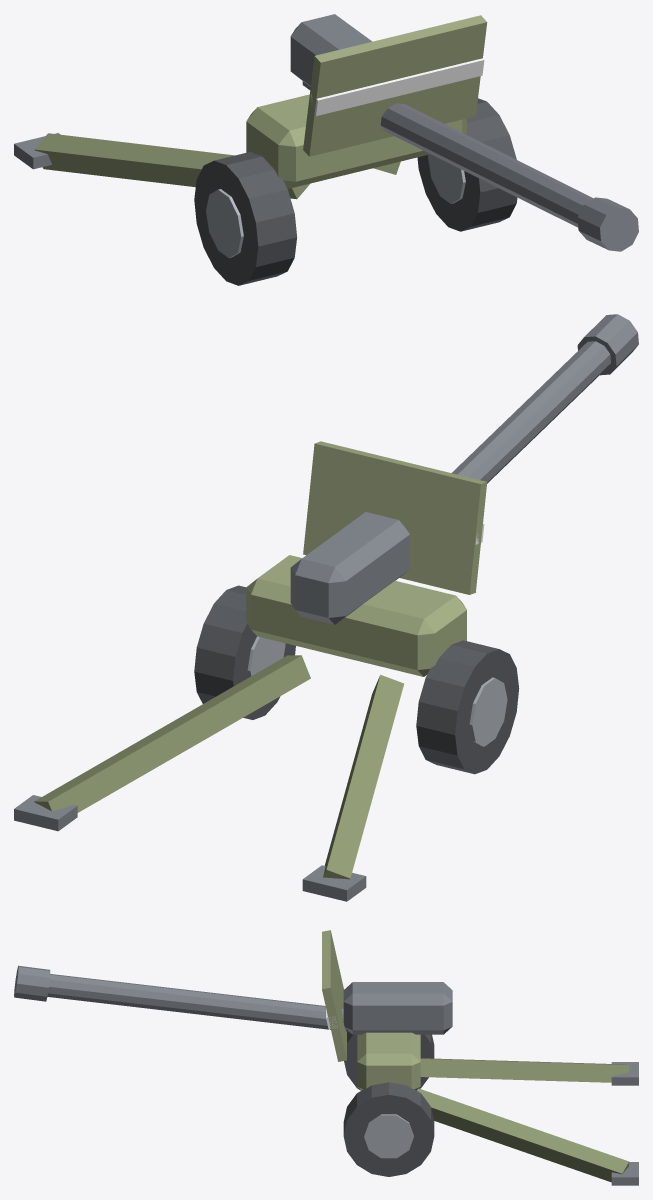
Rendered from towedgun.glb.
3 views of the same model, one above another, from view 1: azimuth 30°, elevation 25°; view 2: azimuth 150°, elevation 25°; view 3: azimuth 270°, elevation 25° (orthographic). The views are drawn at different scales.
Visible parts, largest first — view 1: main, turret; view 2: main, turret; view 3: main, turret.
Boxes of the visible parts, <box> form: main: <box>14,15,517,285</box>; turret: <box>290,14,638,251</box>; main: <box>14,441,519,901</box>; turret: <box>290,314,638,624</box>; main: <box>322,930,638,1185</box>; turret: <box>14,965,452,1034</box>.
Size of the model in its own units: 0.6 by 0.4255 by 1.38.
